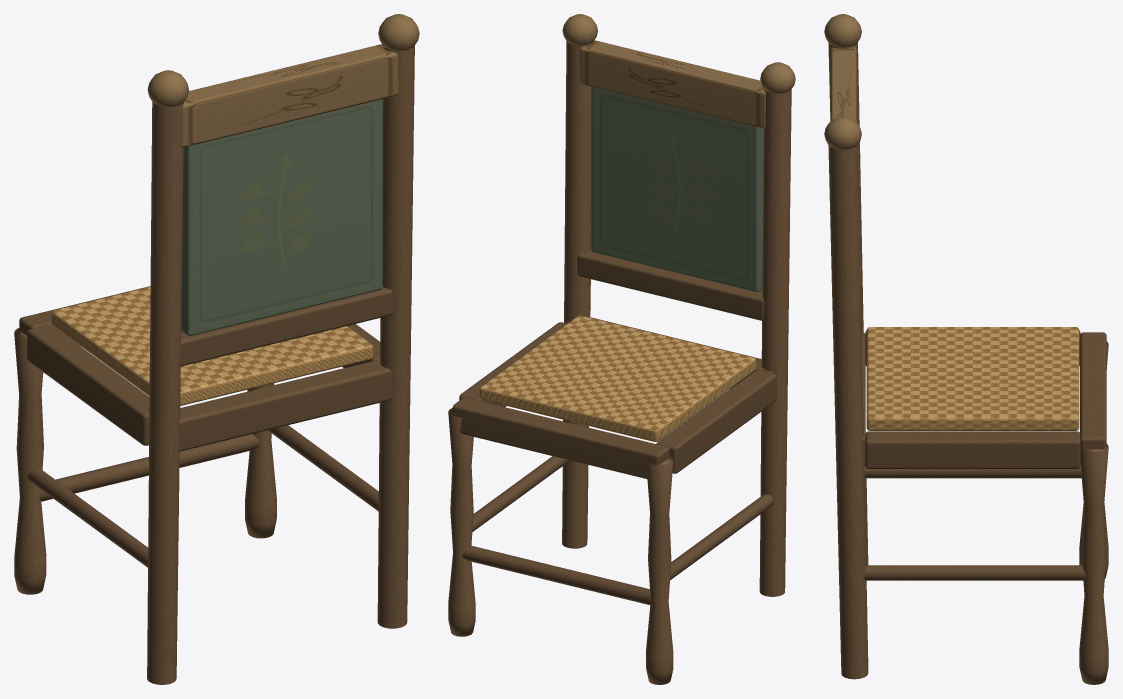
Rendered from silla.glb.
3 views of the same model, side by side, from view 1: azimuth 30°, elevation 25°; view 2: azimuth 150°, elevation 25°; view 3: azimuth 270°, elevation 25° (orthographic). The views are drawn at different scales.
Visible parts, largest first — view 1: silla; view 2: silla; view 3: silla.
Part boxes in pixels (x1,y1,x2,y2): silla: [14, 14, 419, 684]; silla: [448, 14, 795, 684]; silla: [824, 14, 1108, 684].
Bounding box in the file's own units: 0.474 × 1.05 × 0.482.
Materials: 1 (1 with a texture image).
